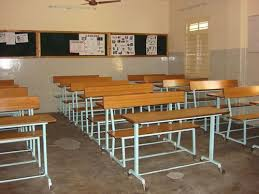Bench: (105, 99, 219, 169), (72, 82, 153, 128)
